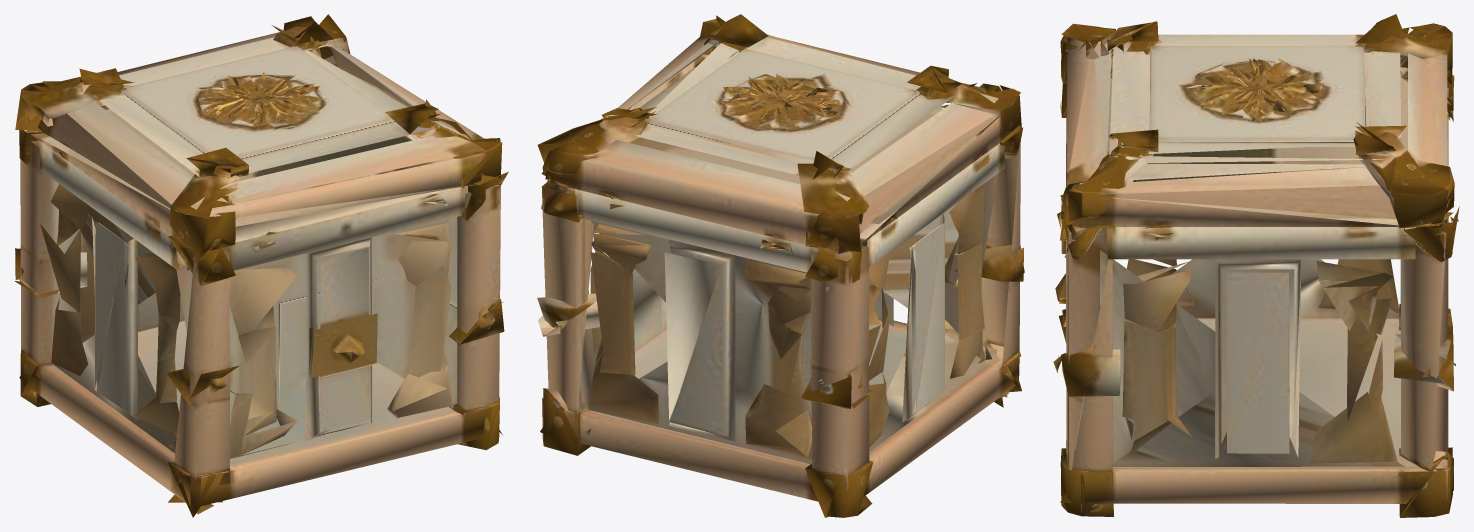
Rendered from storage-chest.lod1.glb.
The picture shows the model from 3 angles, left to right: view 1: azimuth 30°, elevation 25°; view 2: azimuth 150°, elevation 25°; view 3: azimuth 270°, elevation 25°; orthographic projection. The views are drawn at different scales.
Parts seen in each view (by area): view 1: storage-chest_lod1; view 2: storage-chest_lod1; view 3: storage-chest_lod1.
Part boxes in pixels (bbox=[...]): storage-chest_lod1: bbox=[14, 14, 508, 517]; storage-chest_lod1: bbox=[537, 14, 1024, 517]; storage-chest_lod1: bbox=[1053, 14, 1459, 517].
Bounding box in the file's own units: 0.9271 × 0.898 × 0.9094.
Materials: 1 (1 with a texture image).
